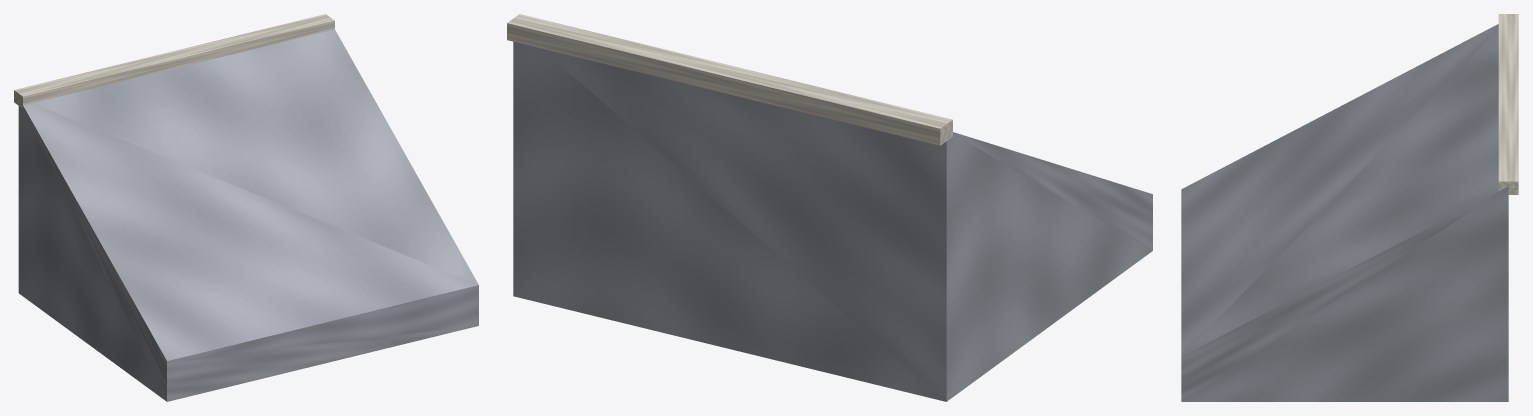
Rendered from vampire-crypt-and-gothic-cathedral-aisle-roof-bay-d339fb89__22968.glb.
3 views of the same model, side by side, from view 1: azimuth 30°, elevation 25°; view 2: azimuth 150°, elevation 25°; view 3: azimuth 270°, elevation 25° (orthographic). The views are drawn at different scales.
Parts seen in each view (by area): view 1: aisle-roof-bay; view 2: aisle-roof-bay; view 3: aisle-roof-bay.
Boxes of the visible parts, x1,y1,x2,y2 form: aisle-roof-bay: [14, 14, 478, 401]; aisle-roof-bay: [507, 14, 1152, 401]; aisle-roof-bay: [1181, 14, 1518, 401].
Bounding box in the file's own units: 4 × 2.45 × 3.4.
3 materials, 3 textured.
